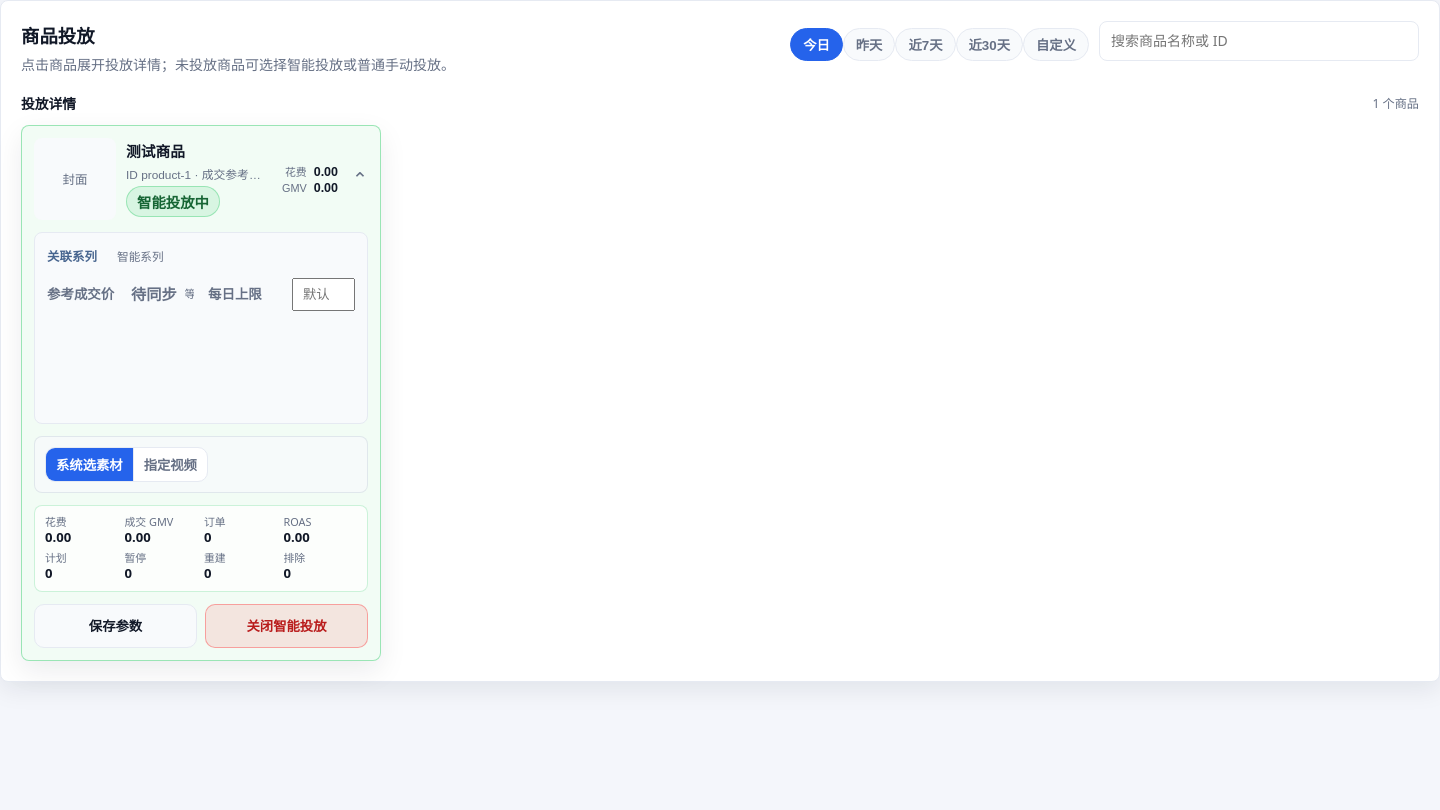
Test: ProductAutomationPanel smart shutdown › submits one atomic shutdown intent when the official pause must queue
This screenshot has width=1440, height=810.
Click the button "关闭智能投放": x=286, y=626 [205,604,368,648]
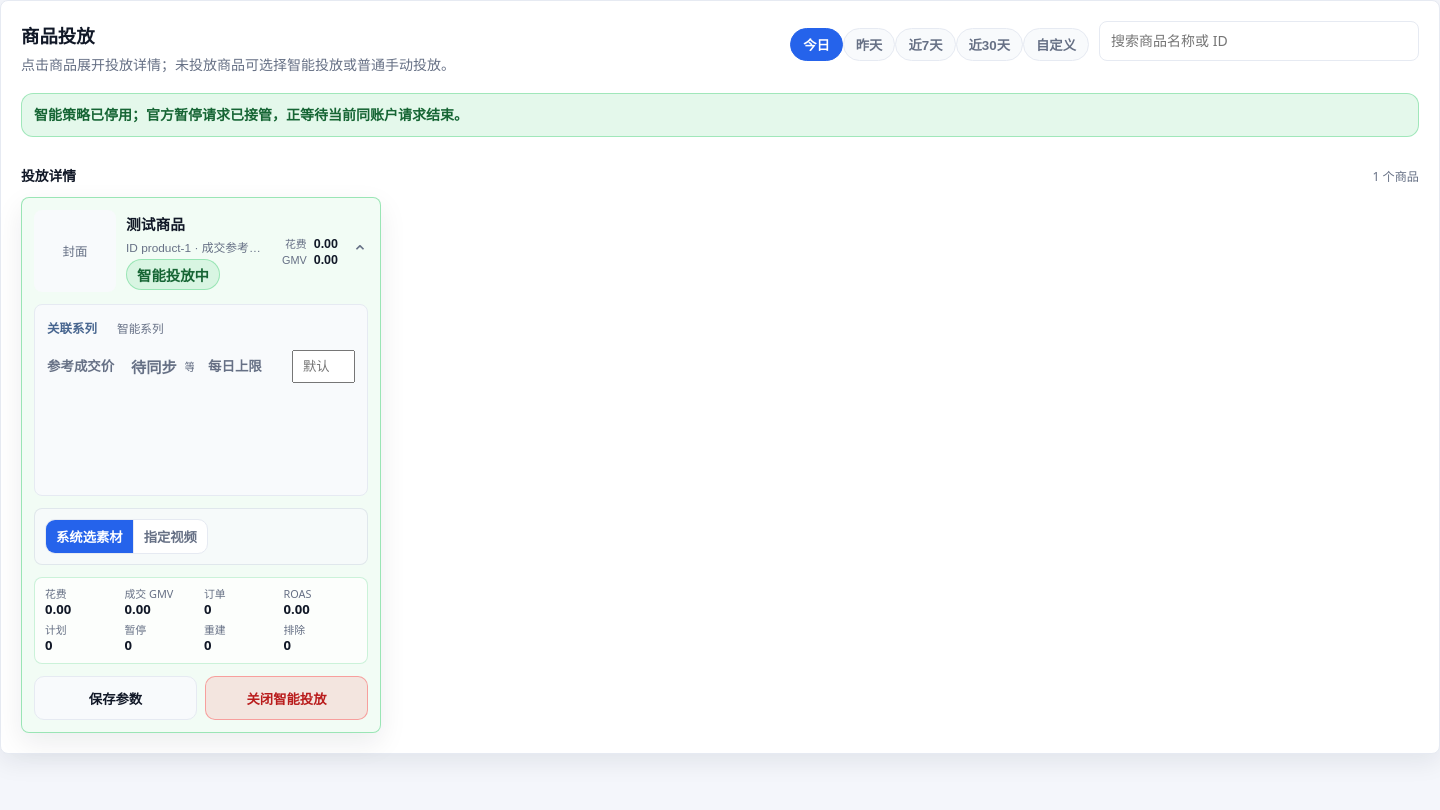
Result: the text "智能策略已停用；官方暂停请求已接管，正等待当前同账户请求结束。" is shown at [21,93,1419,137]
